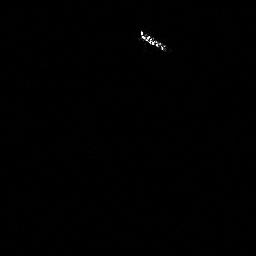ship: (140, 27, 168, 53)
